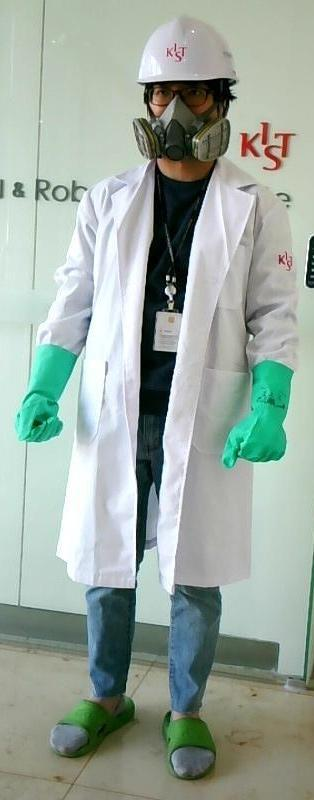lab_coat: (59, 172, 232, 584)
